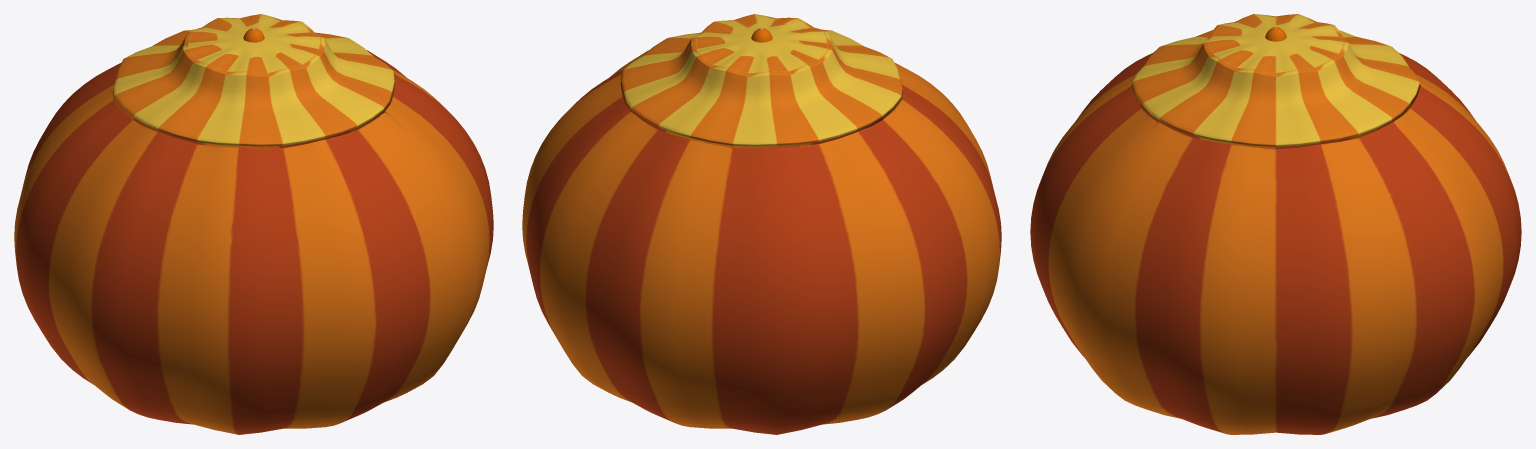
The model's file is Pot 2.fbx.
The picture shows the model from 3 angles, left to right: view 1: azimuth 30°, elevation 25°; view 2: azimuth 150°, elevation 25°; view 3: azimuth 270°, elevation 25°; orthographic projection.
Parts seen in each view (by area): view 1: tasteOfAutumn_geo1; view 2: tasteOfAutumn_geo1; view 3: tasteOfAutumn_geo1.
Part boxes in pixels (x1,y1,x2,y2): tasteOfAutumn_geo1: (14,14,493,434); tasteOfAutumn_geo1: (522,14,1001,434); tasteOfAutumn_geo1: (1030,14,1521,434).
Bounding box in the file's own units: 0.9111 × 0.7926 × 0.9353.
Materials: 1 (1 with a texture image).
